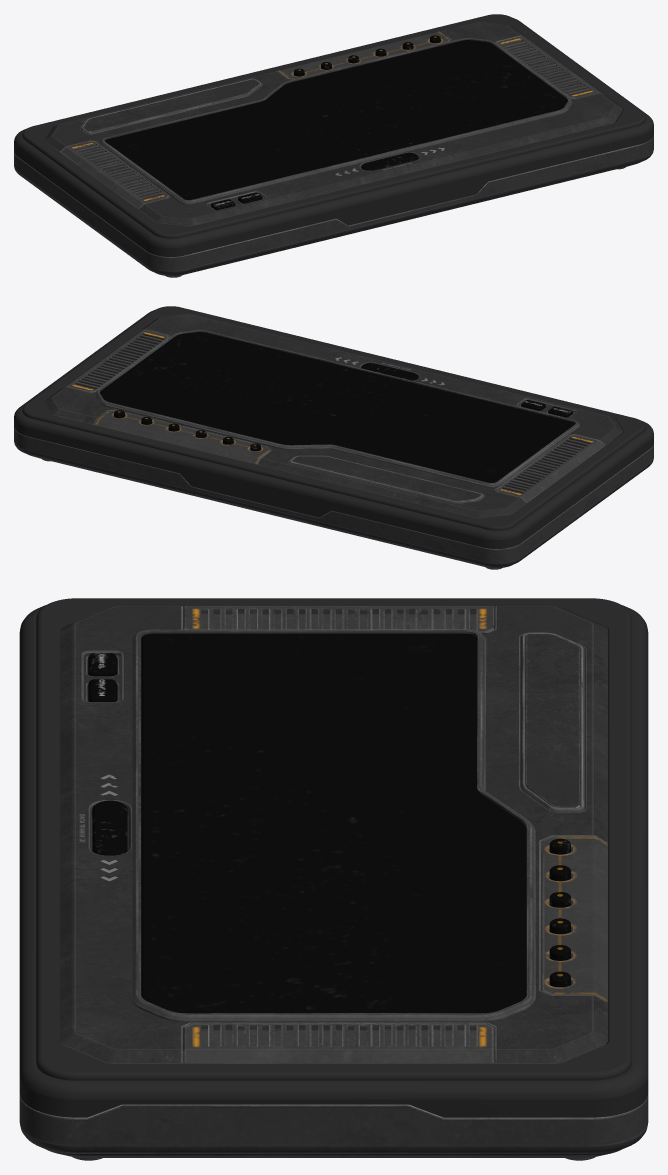
Rendered from tablet.glb.
3 views of the same model, one above another, from view 1: azimuth 30°, elevation 25°; view 2: azimuth 150°, elevation 25°; view 3: azimuth 270°, elevation 25° (orthographic). The views are drawn at different scales.
Parts seen in each view (by area): view 1: Object_4, Object_8, Object_3, Object_7, Object_9, Object_6, Object_2; view 2: Object_4, Object_8, Object_3, Object_7, Object_9, Object_6, Object_2; view 3: Object_4, Object_3, Object_8, Object_7, Object_9, Object_6, Object_2.
Boxes of the visible parts, <box> form: Object_4: <box>105,40,567,200</box>; Object_8: <box>14,14,653,256</box>; Object_3: <box>14,31,653,277</box>; Object_7: <box>44,22,623,226</box>; Object_9: <box>83,79,259,132</box>; Object_6: <box>210,35,440,210</box>; Object_2: <box>361,152,418,170</box>; Object_4: <box>100,332,574,482</box>; Object_8: <box>14,306,653,548</box>; Object_3: <box>14,330,653,569</box>; Object_7: <box>44,314,623,518</box>; Object_9: <box>292,456,481,501</box>; Object_6: <box>114,400,572,451</box>; Object_2: <box>361,362,418,380</box>; Object_4: <box>141,633,526,1013</box>; Object_3: <box>19,606,648,1160</box>; Object_8: <box>19,598,648,1117</box>; Object_7: <box>60,606,607,1062</box>; Object_9: <box>525,634,580,807</box>; Object_6: <box>88,653,570,987</box>; Object_2: <box>92,800,127,855</box>.
Size of the model in its own units: 3.7 by 0.403 by 2.
Materials: 8 (7 with a texture image).
